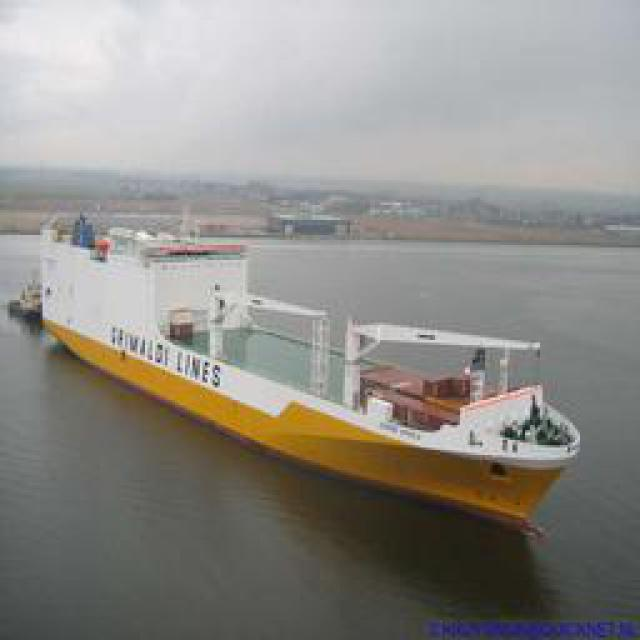Ship: (55, 214, 573, 547)
